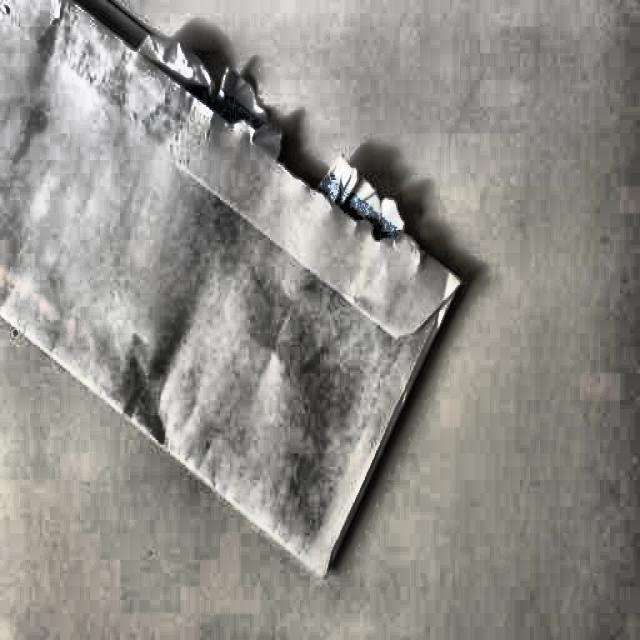paper: (0, 0, 438, 577)
